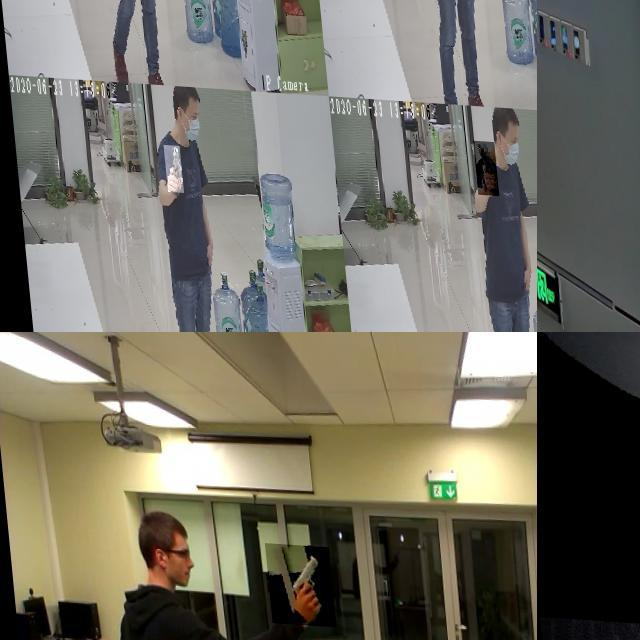-: (537, 332, 640, 640)
gun-knife-thesis - v11 Yolov5 augmented: (259, 540, 329, 623), (466, 134, 491, 190), (156, 142, 176, 190), (95, 0, 127, 26), (444, 0, 460, 24)
